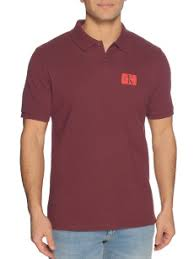C_polo shirt: (16, 24, 192, 240)
